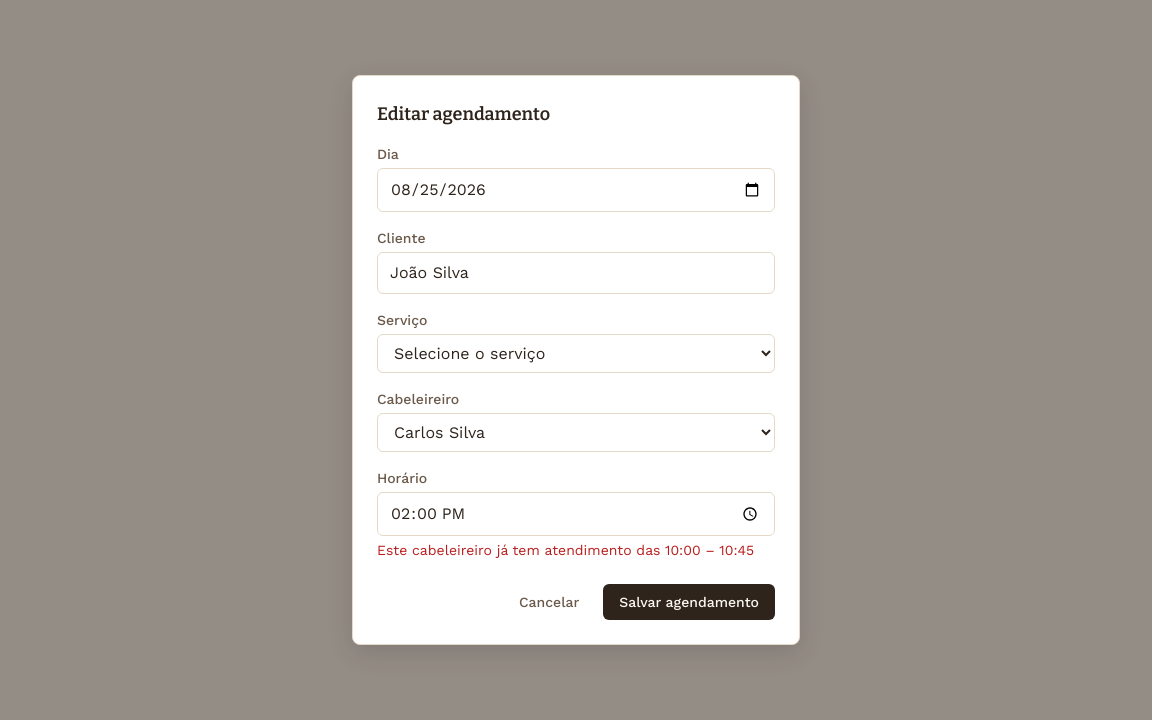
Test: AppointmentFormModal › re-checks availability against the new date when the Dia field is changed
The image size is (1152, 720).
Check: the text "Este cabeleireiro já tem atendimento das 10:00 – 10:45" is shown, box [377, 540, 775, 560]
Clear the date field labelled "Dia" at (576, 190), box [377, 168, 775, 212]
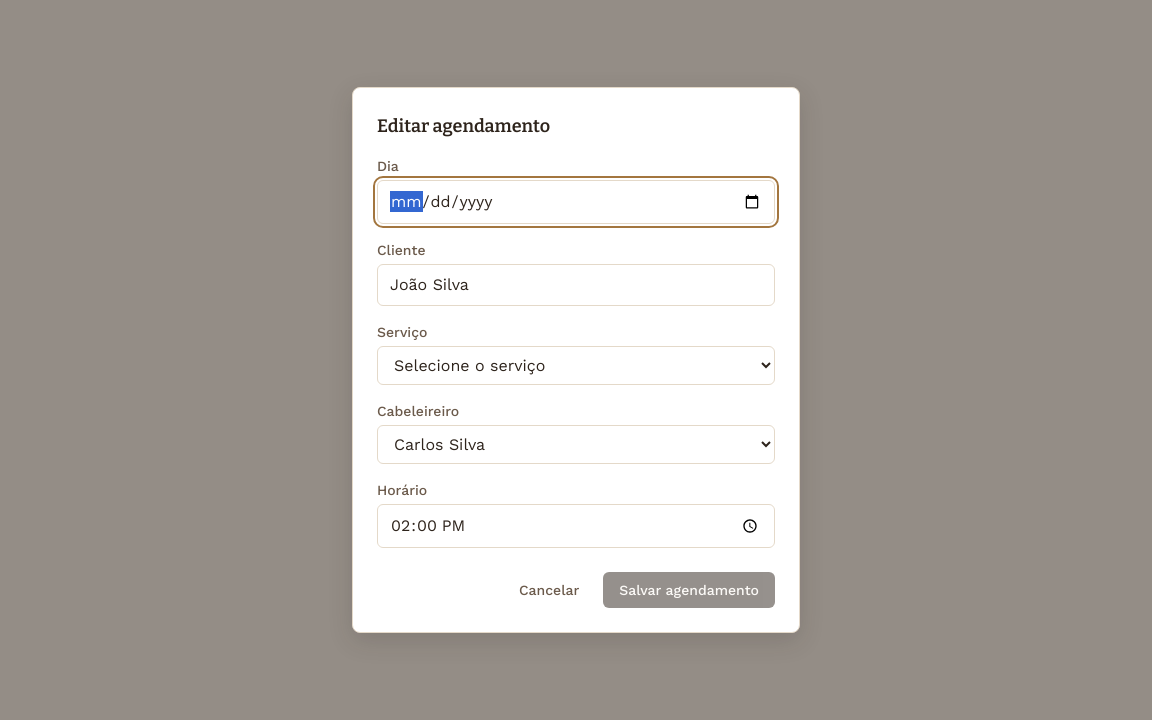
Type "2026-08-26" into the date field labelled "Dia" at (576, 202), box [377, 180, 775, 224]
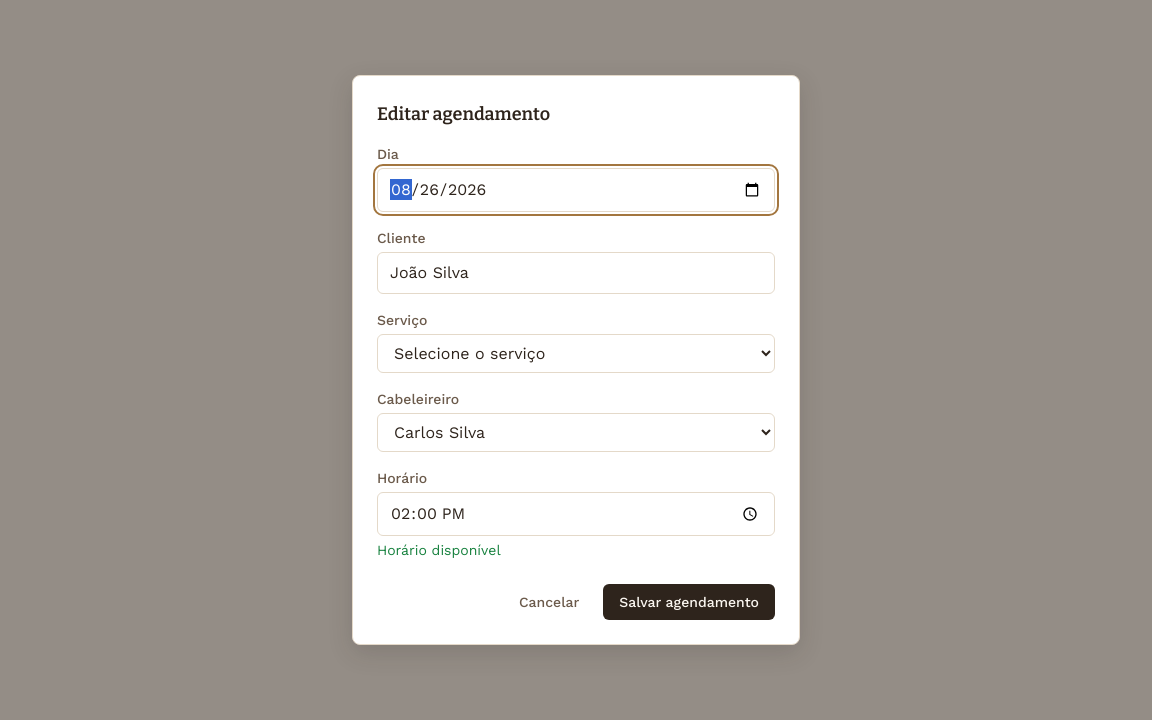
Check: the text "Este cabeleireiro já tem atendimento das 10:00 – 10:45" is not shown
Check: the text "Horário disponível" is shown, box [377, 542, 501, 558]
